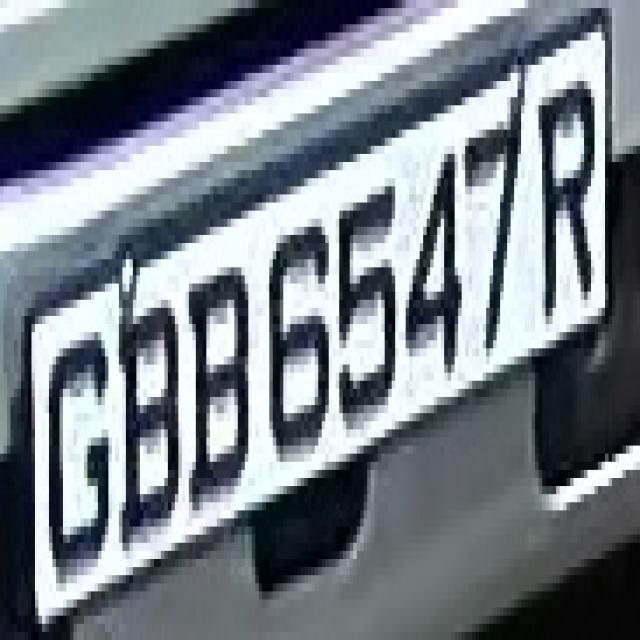4: (399, 137, 472, 380)
5: (328, 178, 406, 421)
6: (266, 210, 339, 462)
7: (451, 105, 528, 397)
B: (115, 276, 189, 567), (182, 259, 259, 535)
G: (38, 316, 112, 591)
R: (521, 73, 602, 332)
